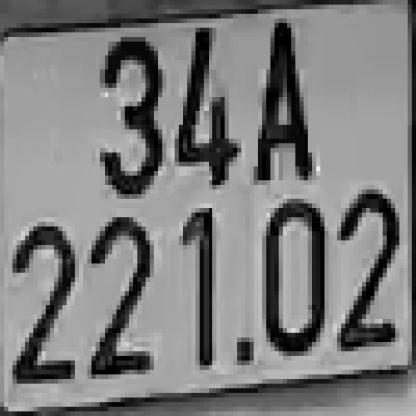0: (258, 199, 320, 351)
1: (174, 208, 224, 365)
2: (8, 217, 79, 379), (87, 217, 158, 370), (333, 190, 395, 346)
3: (100, 37, 162, 203)
4: (175, 28, 237, 185)
A: (250, 18, 316, 185)
